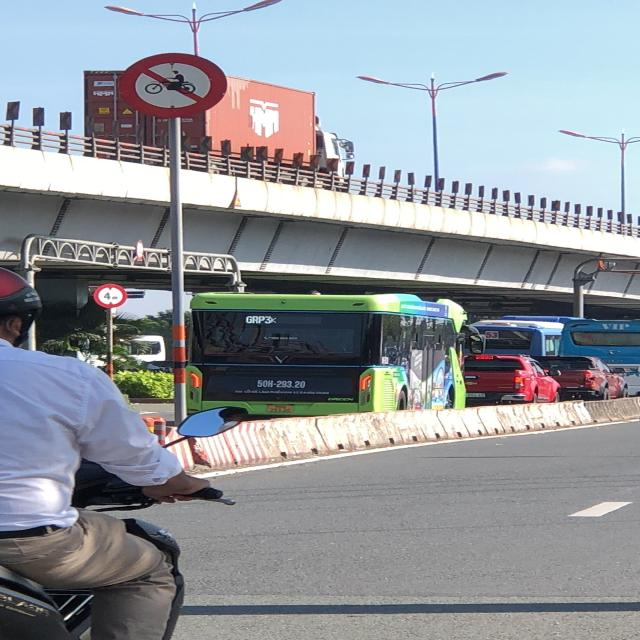Bien bao cam xe may: (100, 48, 234, 126)
